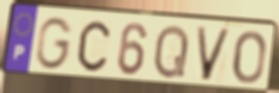6: (115, 21, 150, 77)
C: (76, 19, 112, 74)
G: (34, 16, 75, 72)
O: (231, 29, 267, 86)
Q: (151, 23, 191, 82)
V: (194, 25, 234, 83)
